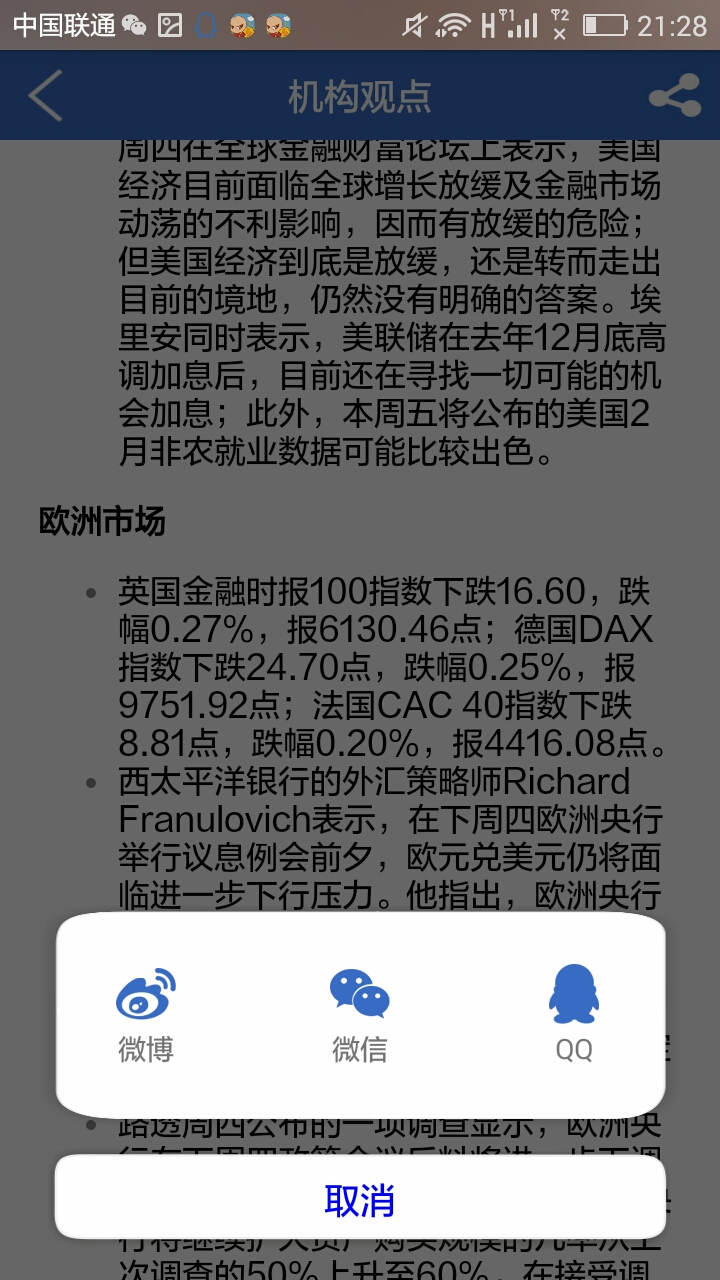button: (50, 1146, 673, 1254)
